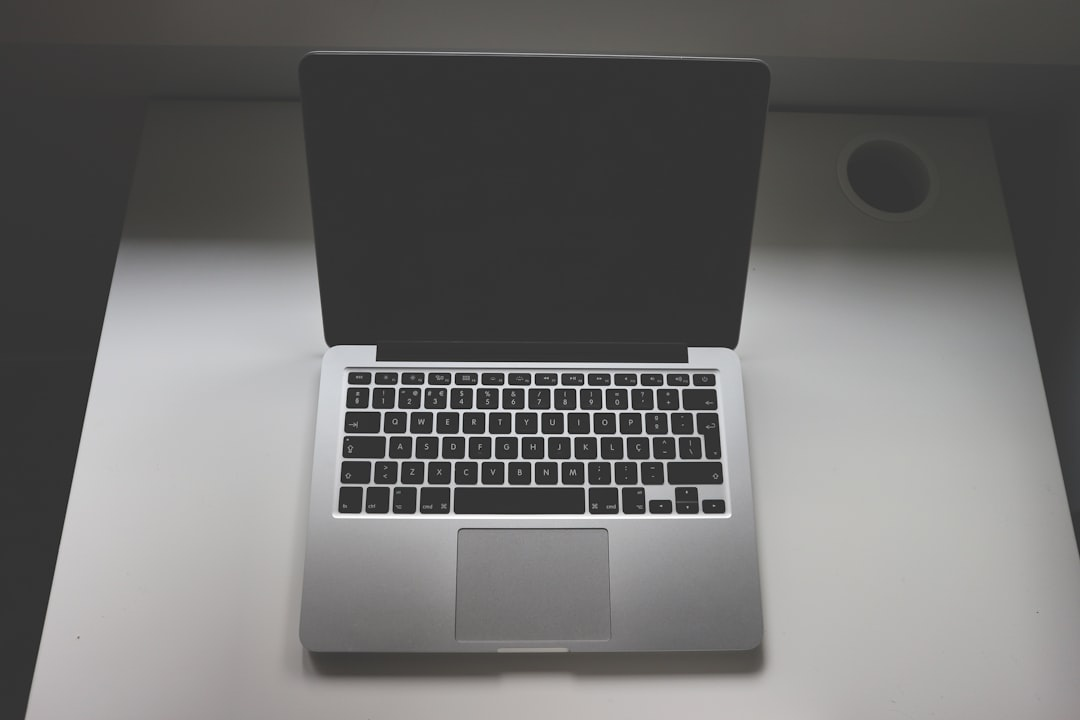laptop: (249, 27, 799, 673)
